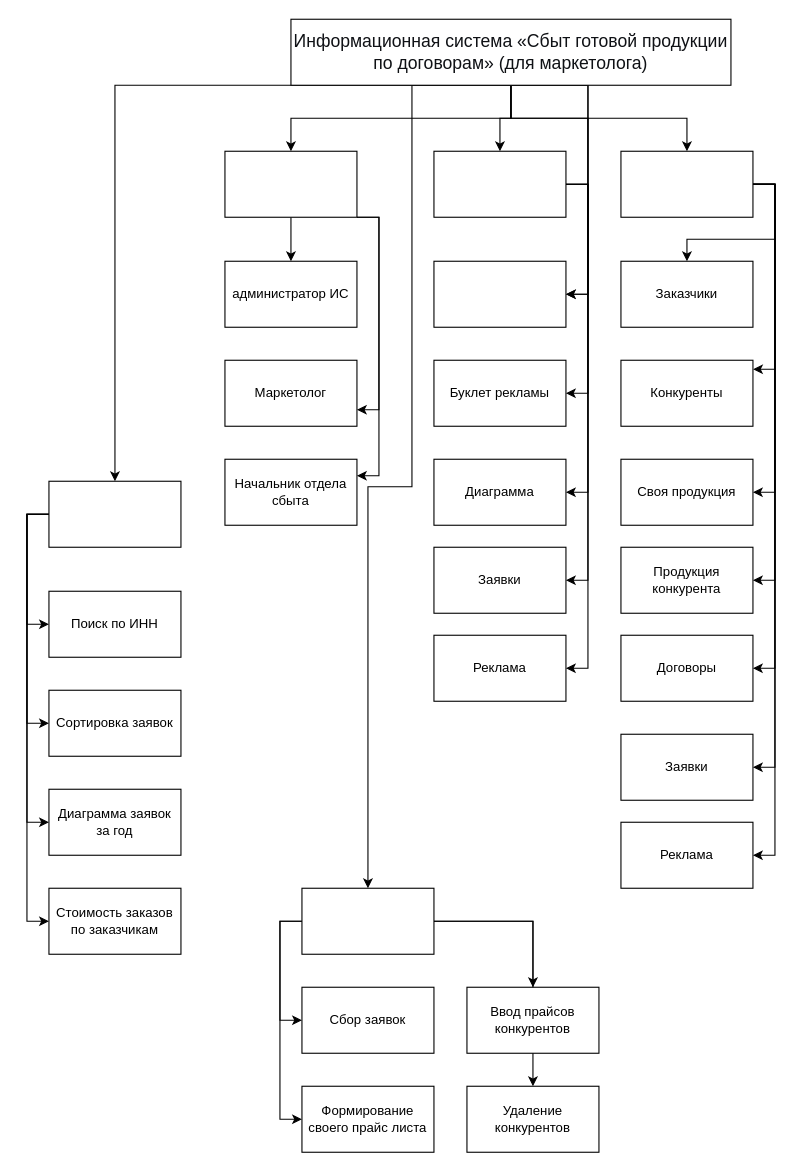
The diagram is 803 pixels wide and 1172 high, and some of its shapes have lost their labels. The centre of each missing label's shape, as x and y in pixels:
Бизнес операции: pixel 367 920
Выходные формы: pixel 499 183
Данные: pixel 686 183
Запросы и отчеты: pixel 114 513
Пользователи и роли: pixel 290 183
Прайс листы: pixel 499 293
